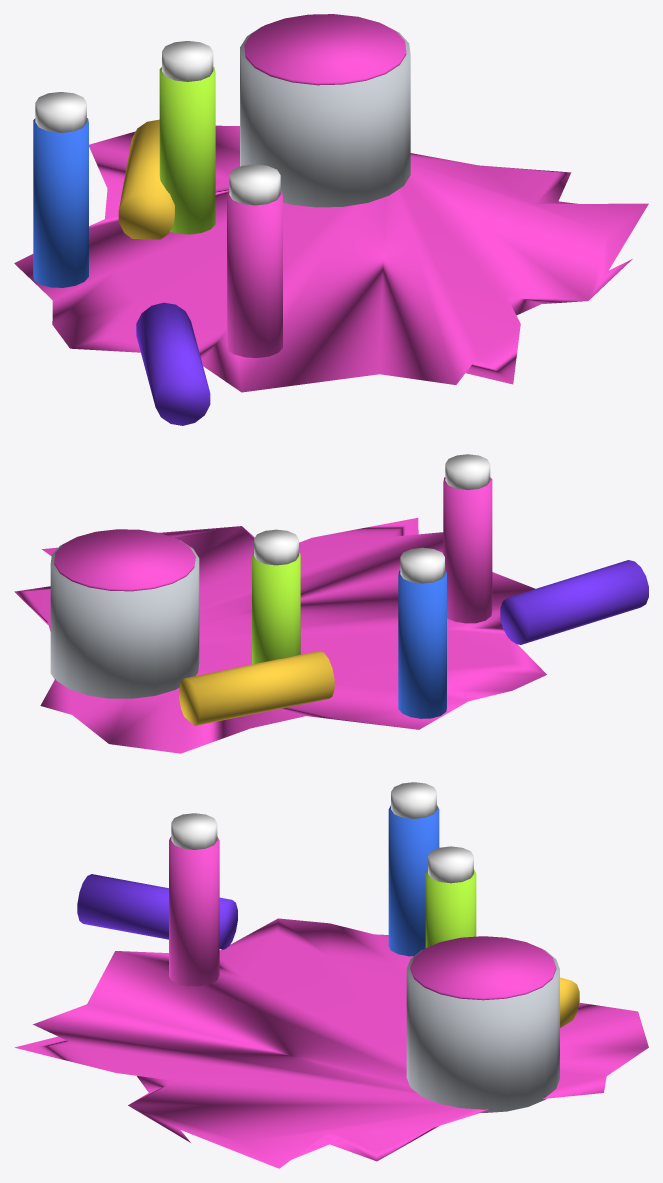
File: Trash_PaintCans.fbx
3 renders of one model, top to bottom at view 1: azimuth 30°, elevation 25°; view 2: azimuth 150°, elevation 25°; view 3: azimuth 270°, elevation 25°, orthographic. The views are drawn at different scales.
Parts seen in each view (by area): view 1: Trash_PaintCans; view 2: Trash_PaintCans; view 3: Trash_PaintCans.
Boxes of the visible parts, <box> form: Trash_PaintCans: <box>14,14,648,425</box>; Trash_PaintCans: <box>14,454,648,753</box>; Trash_PaintCans: <box>14,782,648,1168</box>.
Bounding box in the file's own units: 0.8014 × 0.225 × 0.8273.
